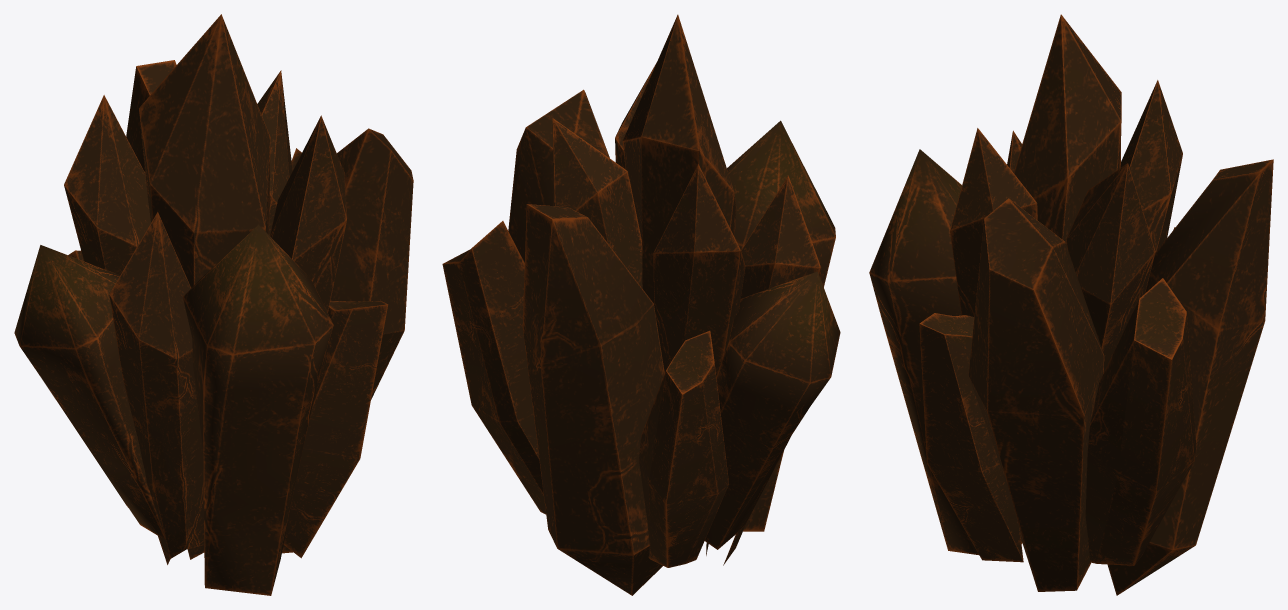
The model's file is crystal_bush_2.fbx.
3 views of the same model, side by side, from view 1: azimuth 30°, elevation 25°; view 2: azimuth 150°, elevation 25°; view 3: azimuth 270°, elevation 25° (orthographic).
Visible parts, largest first — view 1: crystal_bush_2; view 2: crystal_bush_2; view 3: crystal_bush_2.
Boxes of the visible parts, x1,y1,x2,y2 form: crystal_bush_2: (14, 14, 413, 595); crystal_bush_2: (442, 14, 840, 595); crystal_bush_2: (869, 14, 1273, 595).
Size of the model in its own units: 3.44 by 5.16 by 3.33.
